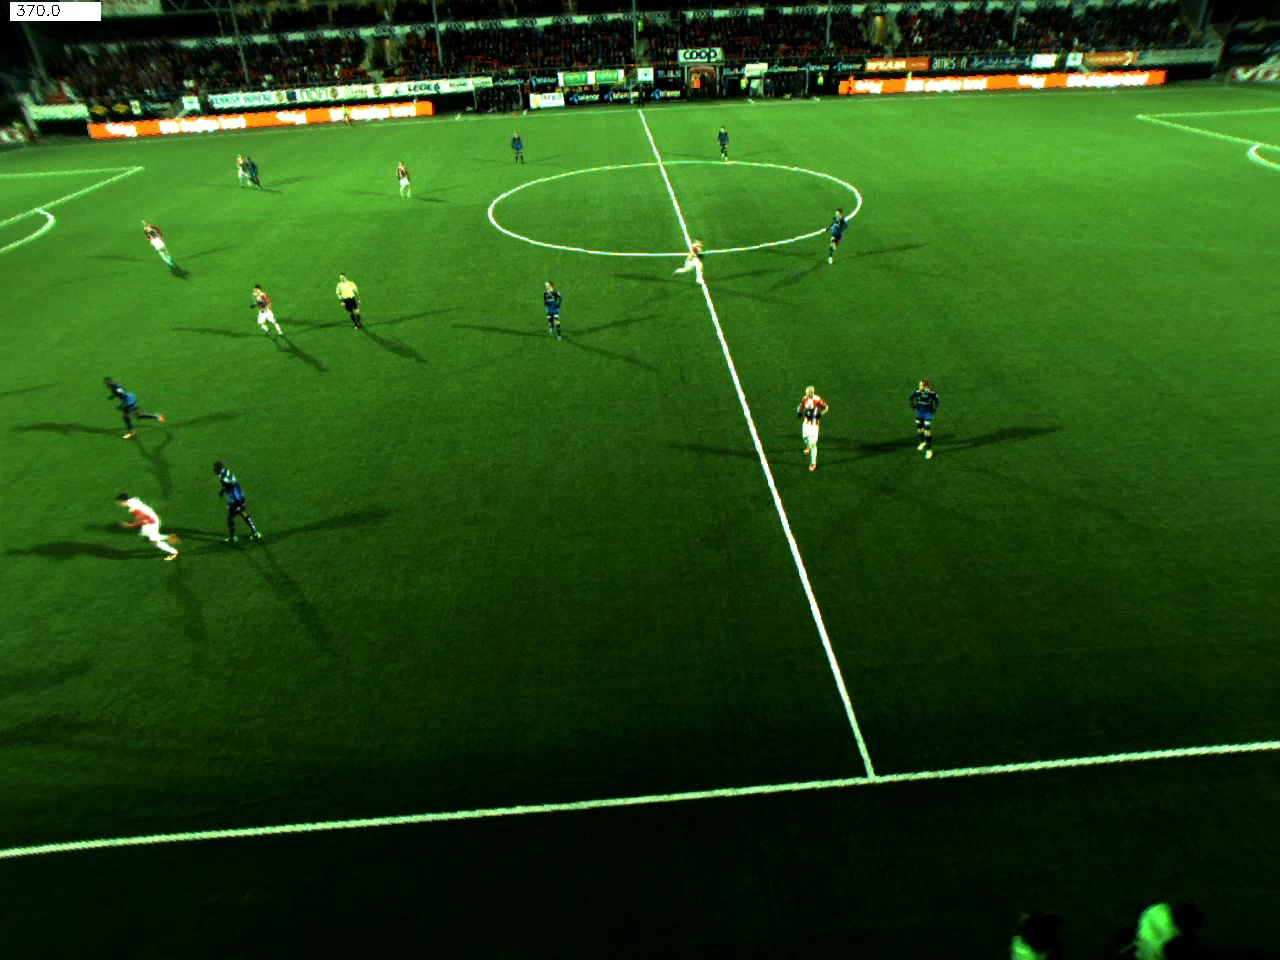blue: (212, 449, 280, 552), (101, 370, 185, 437), (906, 374, 955, 462), (537, 278, 583, 342), (819, 212, 848, 264), (502, 125, 531, 164), (714, 123, 738, 160), (245, 153, 260, 199)
red: (116, 491, 195, 577), (783, 373, 828, 477), (138, 214, 185, 274), (669, 228, 713, 288), (251, 278, 289, 342), (392, 160, 423, 194), (228, 155, 245, 191)
yellow: (335, 270, 396, 344)
